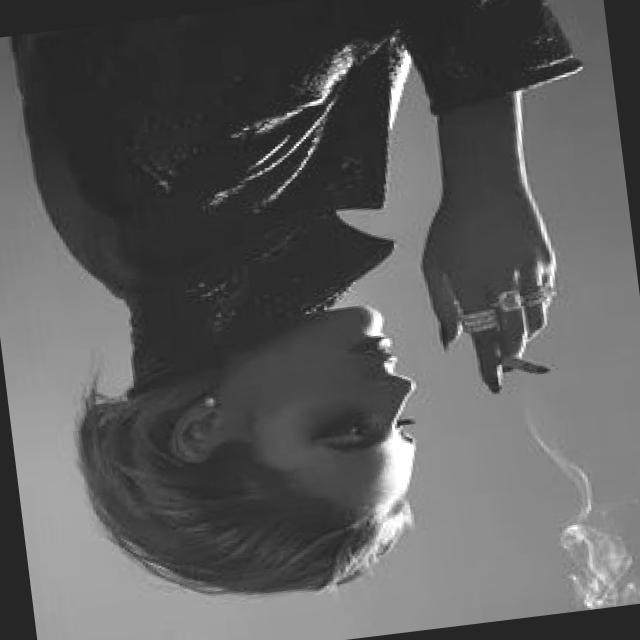smoke: (495, 346, 556, 383)
